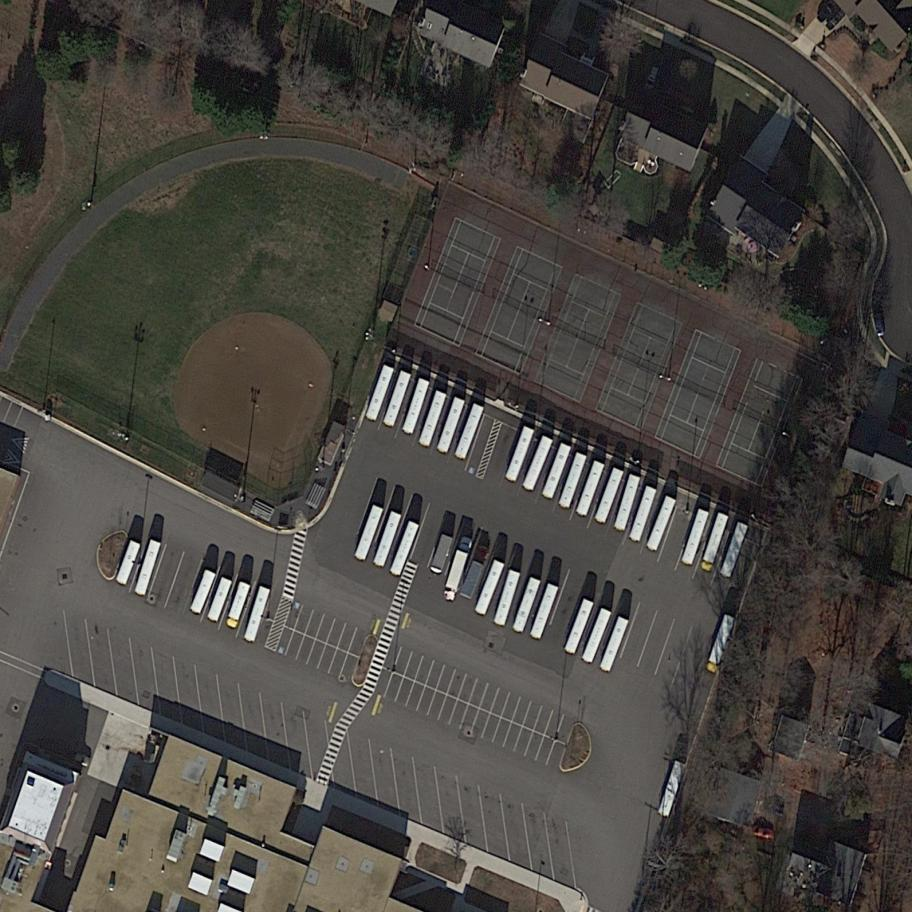large-vehicle: (698, 512, 730, 574), (540, 441, 573, 500), (453, 402, 486, 461), (435, 395, 467, 455), (705, 614, 737, 674), (473, 559, 506, 617), (656, 759, 688, 818), (593, 466, 625, 525), (557, 451, 589, 510), (459, 542, 492, 599), (382, 369, 413, 429), (372, 510, 404, 568), (522, 435, 555, 491), (417, 390, 448, 449), (401, 377, 432, 436), (364, 364, 395, 423), (504, 425, 536, 482), (581, 607, 613, 664), (492, 568, 522, 628), (529, 582, 560, 640), (444, 534, 475, 592), (628, 486, 659, 544), (563, 599, 595, 655), (353, 505, 384, 562), (599, 616, 630, 673), (512, 576, 542, 634), (389, 521, 420, 577), (646, 495, 677, 551), (576, 460, 606, 517), (243, 585, 272, 643), (613, 474, 642, 532), (720, 522, 750, 578), (682, 508, 710, 565), (135, 538, 162, 597), (225, 580, 253, 630), (114, 539, 143, 586), (206, 576, 233, 623), (190, 569, 217, 614), (428, 534, 453, 575)
small-vehicle: (872, 312, 886, 337), (754, 826, 776, 839)
